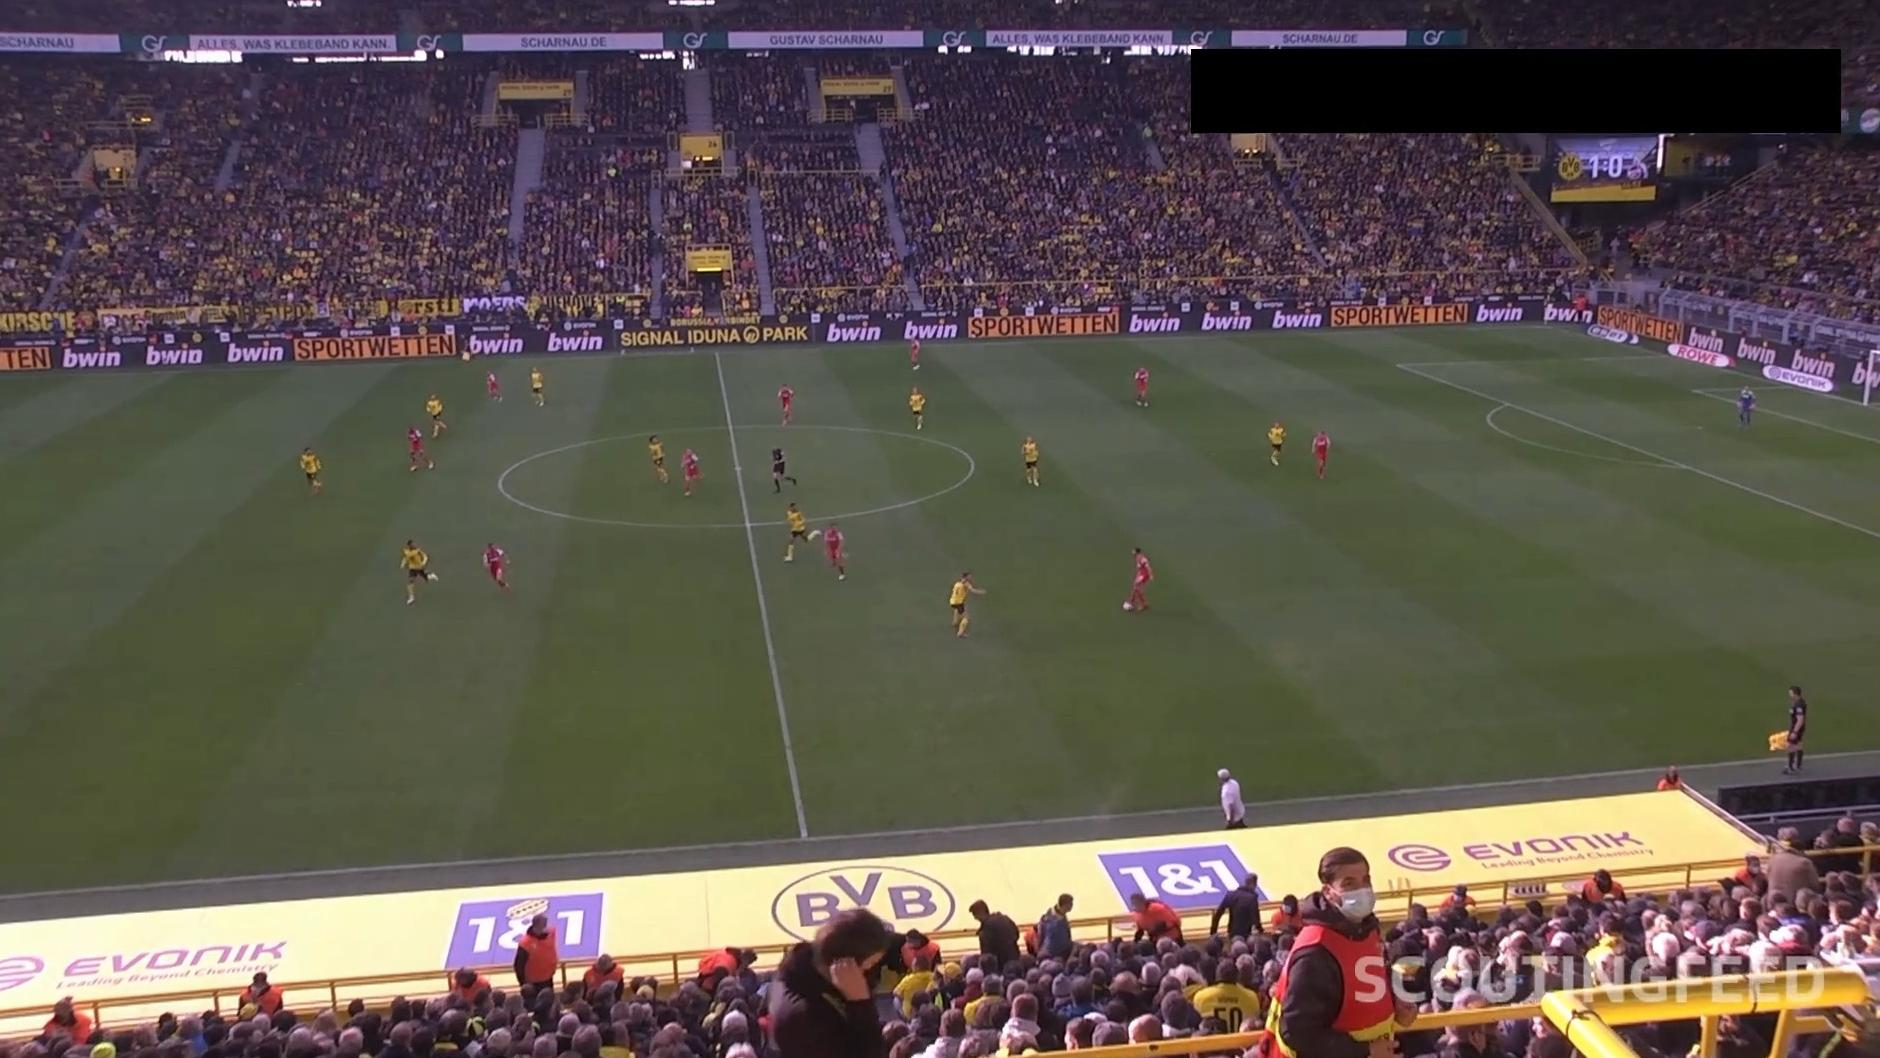ball: (1121, 598, 1136, 612)
